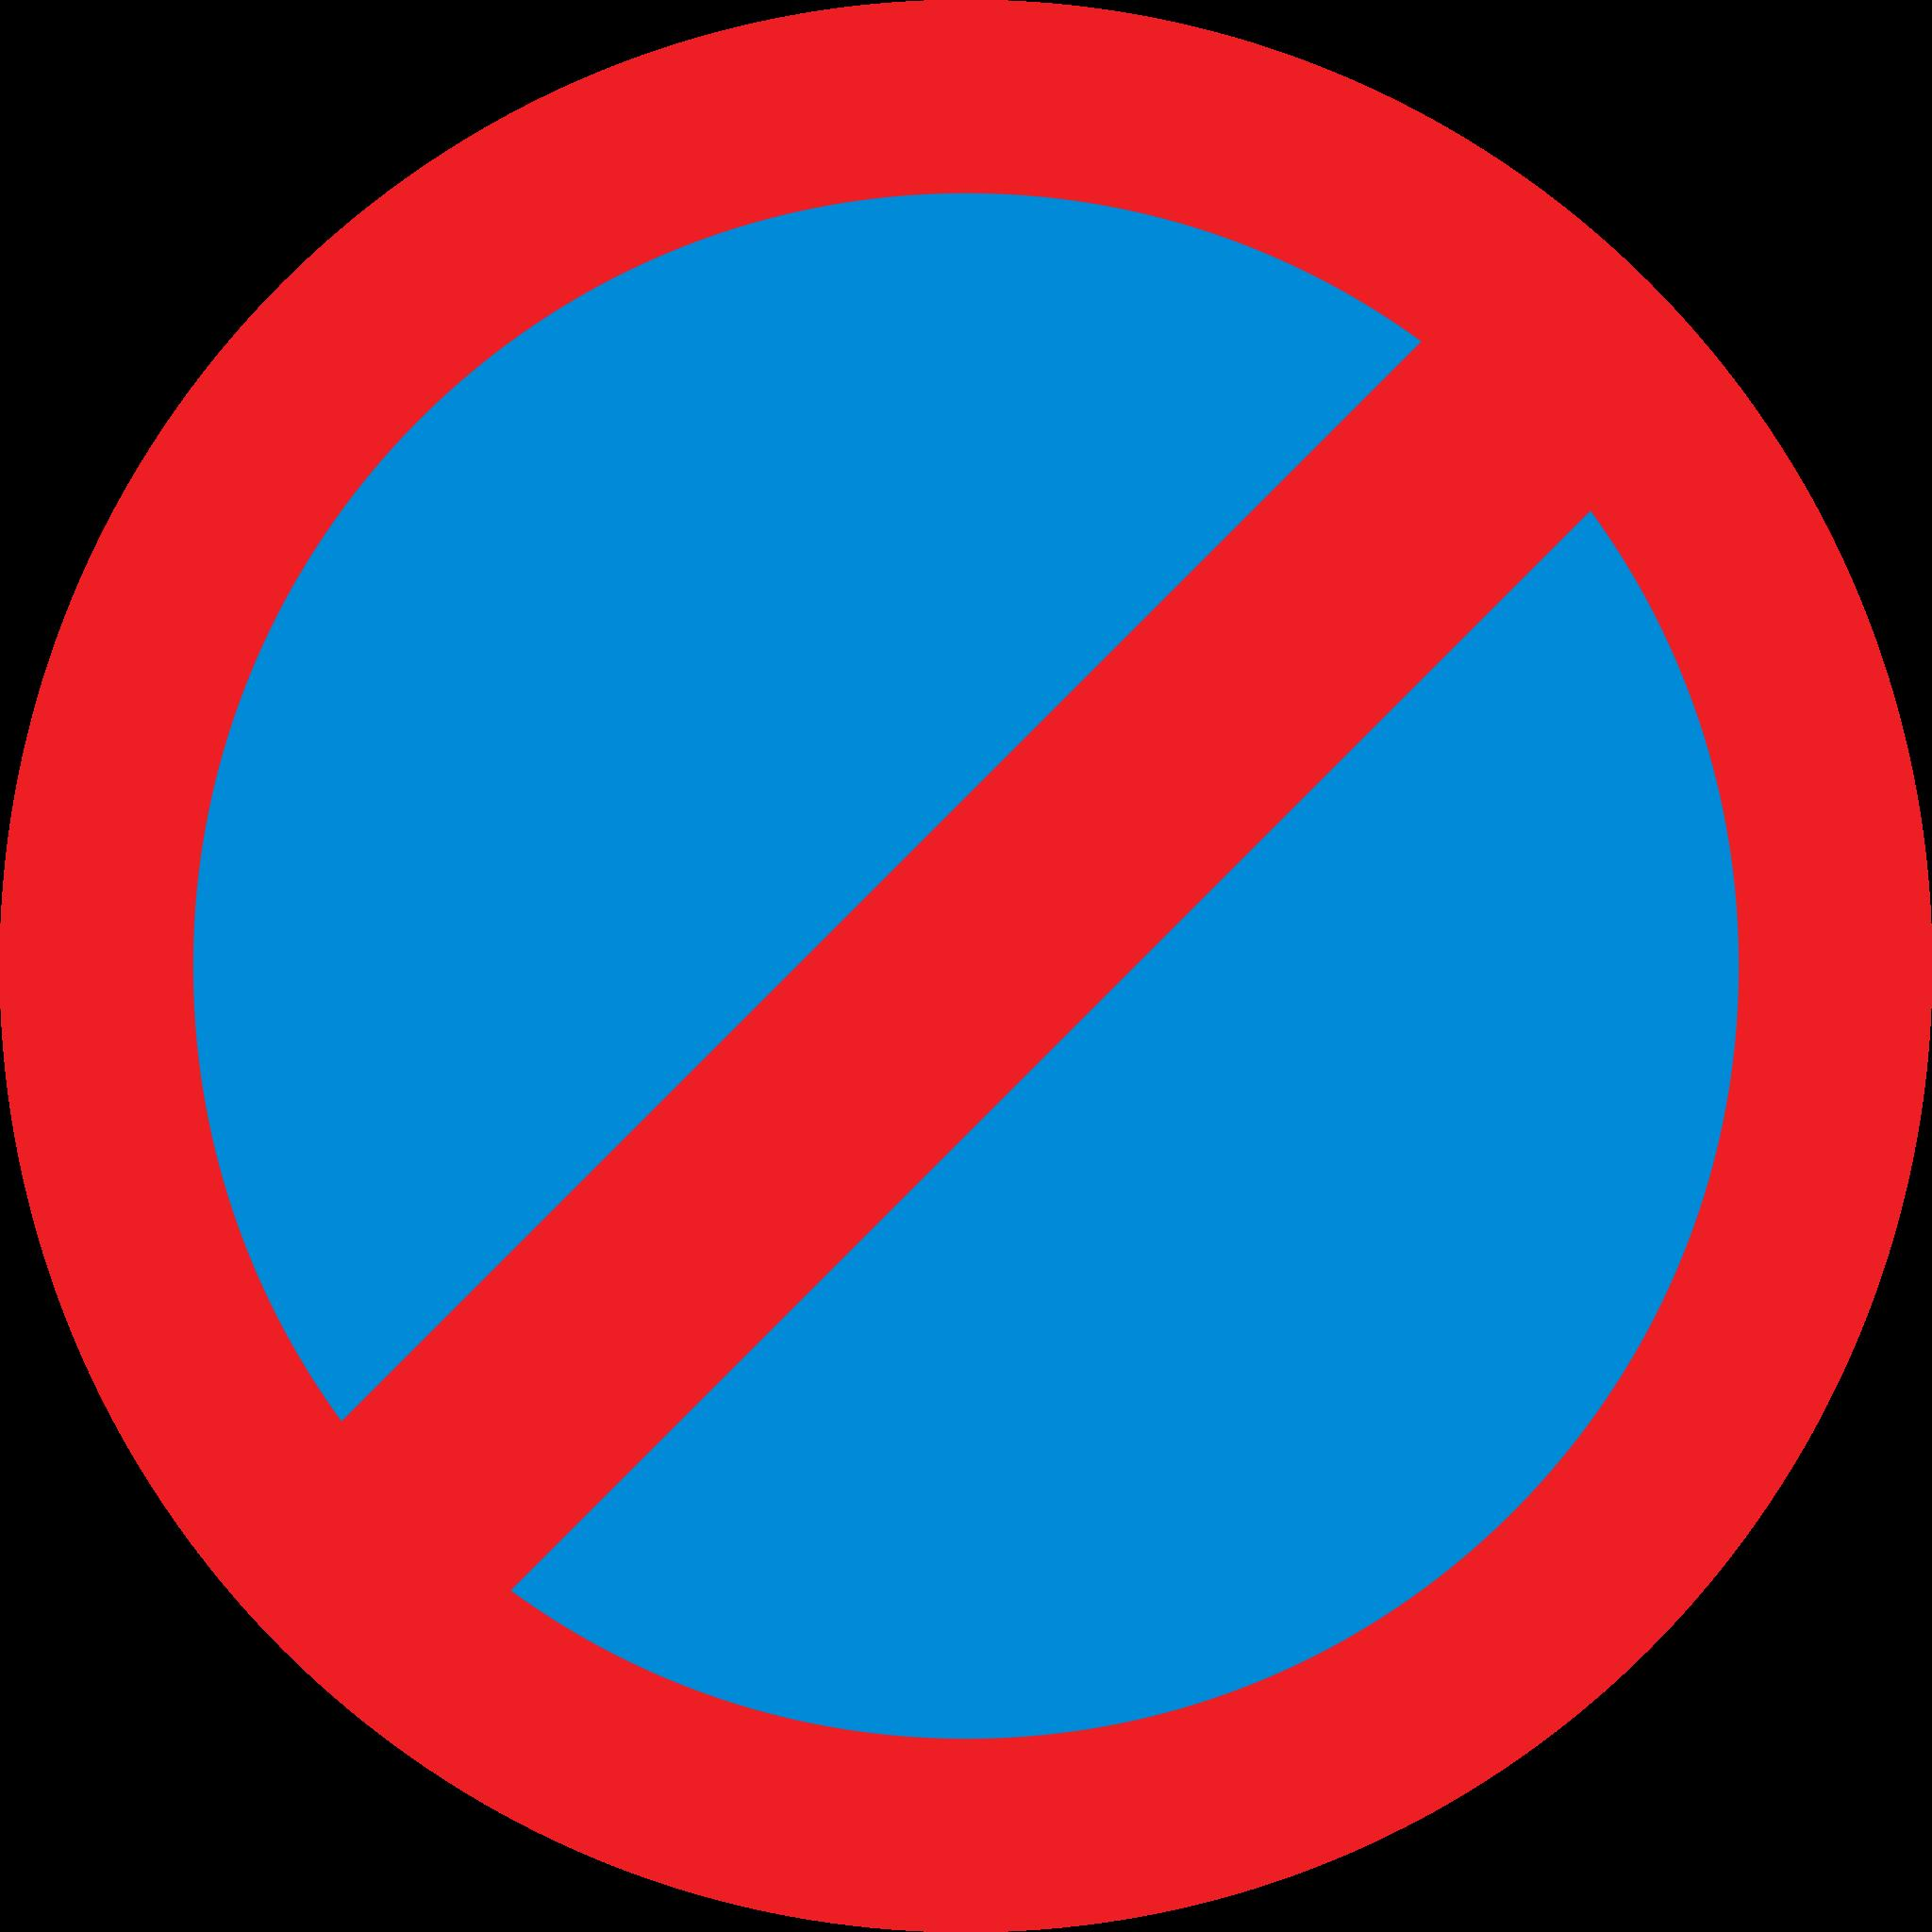No Stopping: (81, 34, 1886, 1845)
